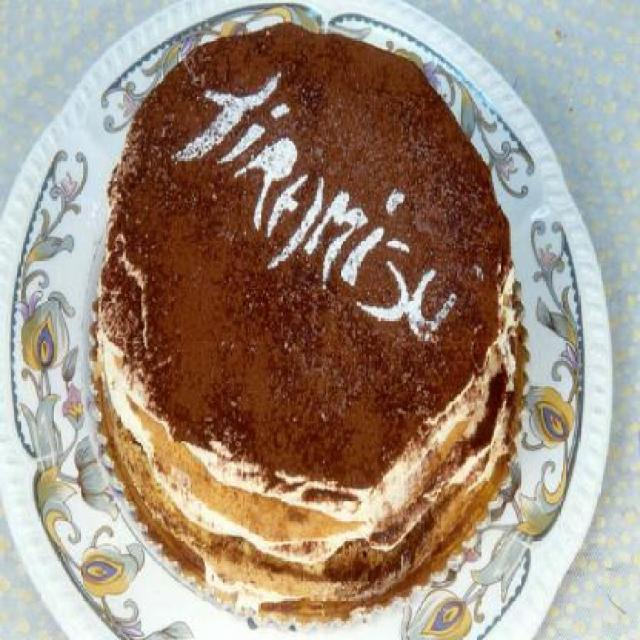Tiramisu: (77, 29, 511, 576)
